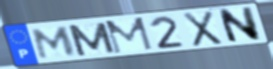2: (149, 15, 187, 50)
M: (103, 16, 155, 56), (65, 21, 118, 58), (31, 25, 78, 61)
N: (216, 6, 263, 45)
X: (182, 9, 225, 48)
